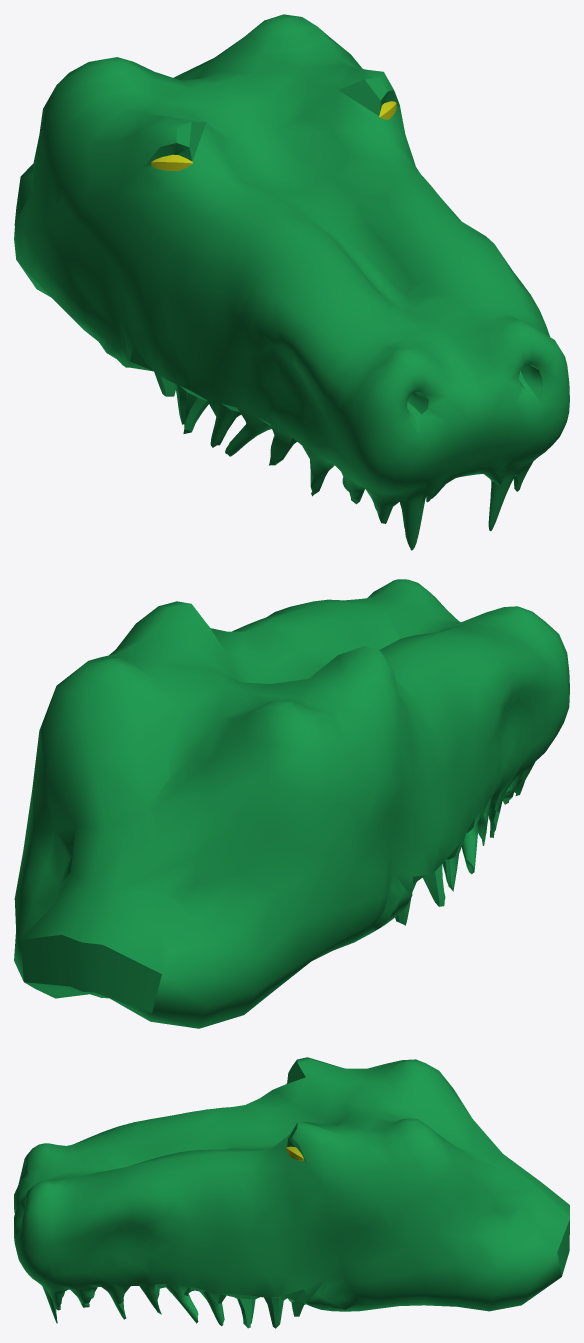
File: Mandibula_UP_Coco.fbx
The picture shows the model from 3 angles, top to bottom: view 1: azimuth 30°, elevation 25°; view 2: azimuth 150°, elevation 25°; view 3: azimuth 270°, elevation 25°; orthographic projection. The views are drawn at different scales.
Parts seen in each view (by area): view 1: Group385; view 2: Group385; view 3: Group385.
Boxes of the visible parts, <box> form: Group385: <box>14,14,569,550</box>; Group385: <box>14,579,569,1028</box>; Group385: <box>14,1057,569,1328</box>.
Bounding box in the file's own units: 2.38 × 2.27 × 5.22.
